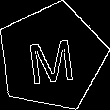M_N: (25, 29, 78, 85)
